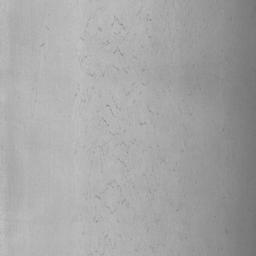Silk spot: (74, 87, 136, 167), (86, 176, 139, 223), (84, 16, 129, 56), (88, 232, 121, 256), (84, 143, 107, 164), (139, 106, 159, 128)
